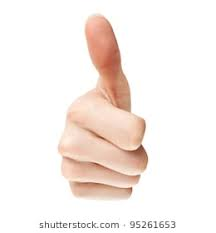thumbs_up: (43, 10, 169, 220)
